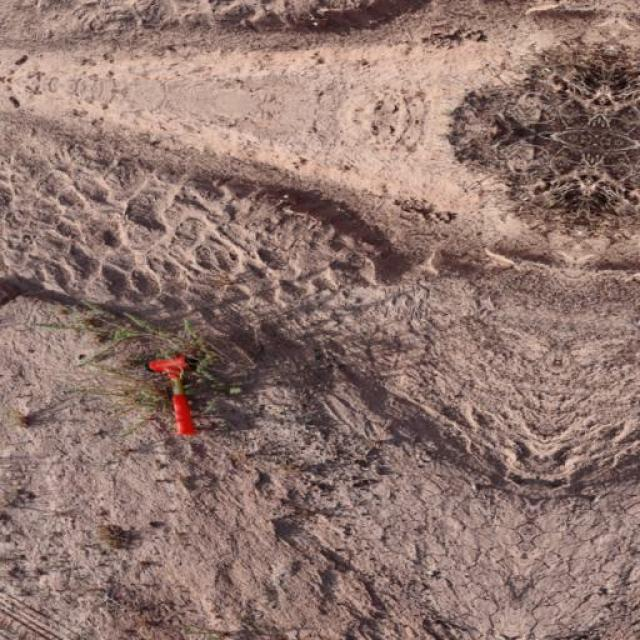mallet: (145, 352, 199, 436)
